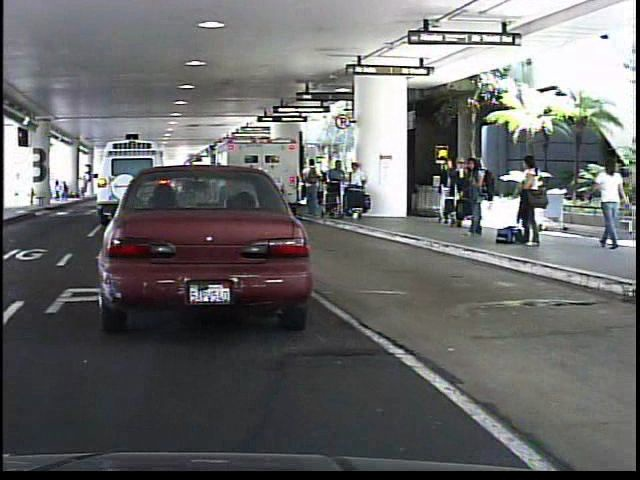person: (589, 154, 629, 250), (513, 149, 542, 249)
